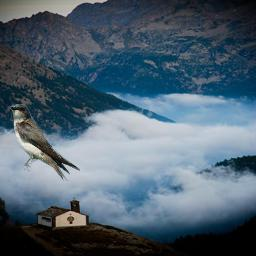Swallow: (10, 104, 80, 181)
